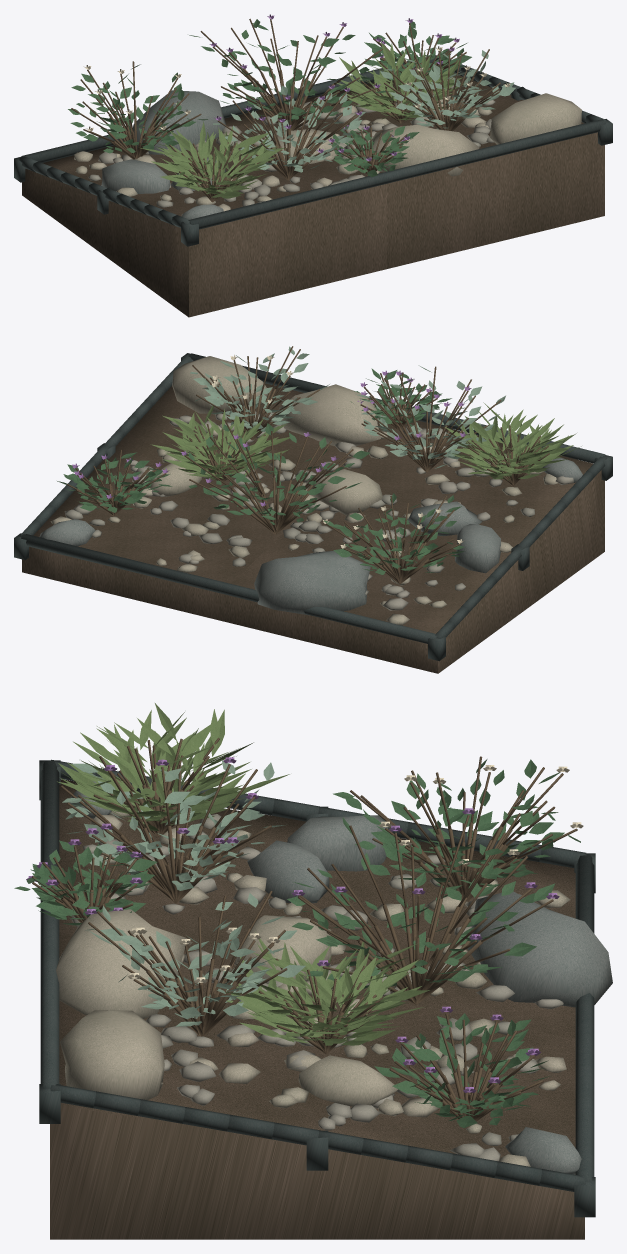
The picture shows the model from 3 angles, top to bottom: view 1: azimuth 30°, elevation 25°; view 2: azimuth 150°, elevation 25°; view 3: azimuth 270°, elevation 25°; orthographic projection. The views are drawn at different scales.
Parts seen in each view (by area): view 1: VIS_RockGarden_SoilWedge_00, VIS_Shrub_WoodyStem_09, VIS_Foliage_Leaves_10, VIS_Foliage_Leaves_15, VIS_Edging_EndRail_03, VIS_Alpine_Rocks_08, VIS_Foliage_Leaves_13, VIS_Alpine_Rocks_07, VIS_Stone_Pebbles_06, VIS_Edging_SideRail_01, VIS_Stone_Pebbles_05, VIS_Edging_Anchor_02 (+2 smaller); view 2: VIS_RockGarden_SoilWedge_00, VIS_Shrub_WoodyStem_09, VIS_Alpine_Rocks_07, VIS_Alpine_Rocks_08, VIS_Foliage_Leaves_10, VIS_Foliage_Leaves_15, VIS_Stone_Pebbles_06, VIS_Edging_EndRail_03, VIS_Foliage_Leaves_13, VIS_Edging_SideRail_01, VIS_Stone_Pebbles_05, VIS_Edging_Anchor_02 (+1 smaller); view 3: VIS_RockGarden_SoilWedge_00, VIS_Shrub_WoodyStem_09, VIS_Foliage_Leaves_10, VIS_Alpine_Rocks_08, VIS_Foliage_Leaves_15, VIS_Alpine_Rocks_07, VIS_Edging_SideRail_01, VIS_Stone_Pebbles_06, VIS_Foliage_Leaves_13, VIS_Edging_EndRail_03, VIS_Stone_Pebbles_05, VIS_Edging_Anchor_02 (+2 smaller).
Part boxes in pixels (box(x1,y1,x2,y2)): VIS_RockGarden_SoilWedge_00: box(22, 73, 604, 317); VIS_Shrub_WoodyStem_09: box(71, 18, 506, 202); VIS_Foliage_Leaves_10: box(68, 19, 471, 177); VIS_Foliage_Leaves_15: box(140, 42, 464, 198); VIS_Edging_EndRail_03: box(21, 55, 605, 229); VIS_Alpine_Rocks_08: box(271, 93, 581, 176); VIS_Foliage_Leaves_13: box(213, 50, 515, 172); VIS_Alpine_Rocks_07: box(101, 60, 429, 219); VIS_Stone_Pebbles_06: box(88, 77, 495, 215); VIS_Edging_SideRail_01: box(19, 58, 606, 227); VIS_Stone_Pebbles_05: box(74, 97, 492, 211); VIS_Edging_Anchor_02: box(14, 55, 612, 246); VIS_RockGarden_SoilWedge_00: box(22, 383, 604, 673); VIS_Shrub_WoodyStem_09: box(67, 346, 549, 584); VIS_Alpine_Rocks_07: box(39, 458, 582, 615); VIS_Alpine_Rocks_08: box(150, 356, 382, 515); VIS_Foliage_Leaves_10: box(57, 368, 464, 574); VIS_Foliage_Leaves_15: box(150, 402, 581, 480); VIS_Stone_Pebbles_06: box(64, 405, 573, 610); VIS_Edging_EndRail_03: box(21, 353, 605, 643); VIS_Foliage_Leaves_13: box(190, 346, 505, 468); VIS_Edging_SideRail_01: box(19, 354, 607, 638); VIS_Stone_Pebbles_05: box(50, 406, 558, 625); VIS_Edging_Anchor_02: box(14, 353, 612, 661); VIS_RockGarden_SoilWedge_00: box(50, 779, 584, 1239); VIS_Shrub_WoodyStem_09: box(31, 737, 577, 1127); VIS_Foliage_Leaves_10: box(14, 759, 580, 1127); VIS_Alpine_Rocks_08: box(56, 909, 397, 1106); VIS_Foliage_Leaves_15: box(57, 703, 429, 1045); VIS_Alpine_Rocks_07: box(70, 781, 612, 1174); VIS_Edging_SideRail_01: box(50, 759, 586, 1191); VIS_Stone_Pebbles_06: box(70, 814, 563, 1161); VIS_Foliage_Leaves_13: box(62, 760, 305, 1026); VIS_Edging_EndRail_03: box(40, 761, 594, 1181); VIS_Stone_Pebbles_05: box(90, 803, 570, 1166); VIS_Edging_Anchor_02: box(39, 760, 595, 1217).
Bounding box in the file's own units: 1.84 × 0.6415 × 1.4.
12 materials, 12 textured.
